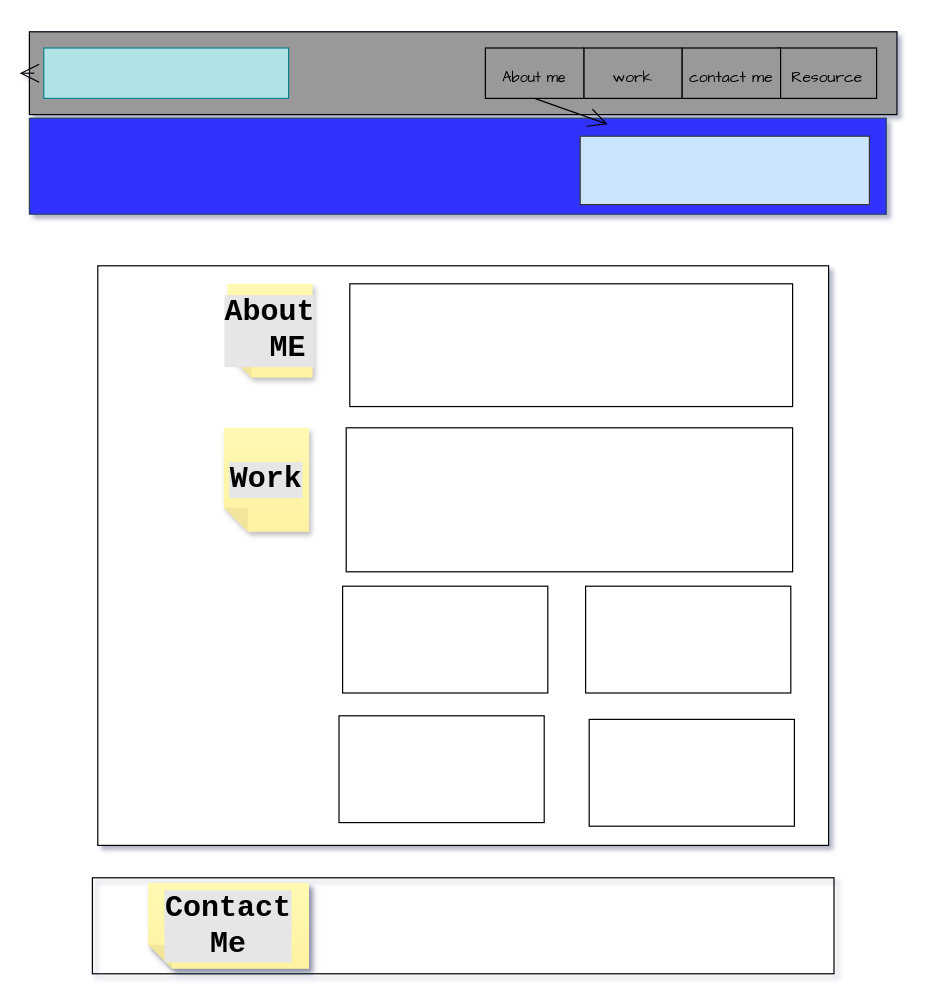
Some shapes in this 925 by 1006 pixel diagram are drawn without their labels. The shapes that lost their labels are listed below. From the top down, each one's centre as x and y in pixels, then its label:
At [166,72]: "JungHan Seo".
At [724,170]: "Cool subtitle here".
